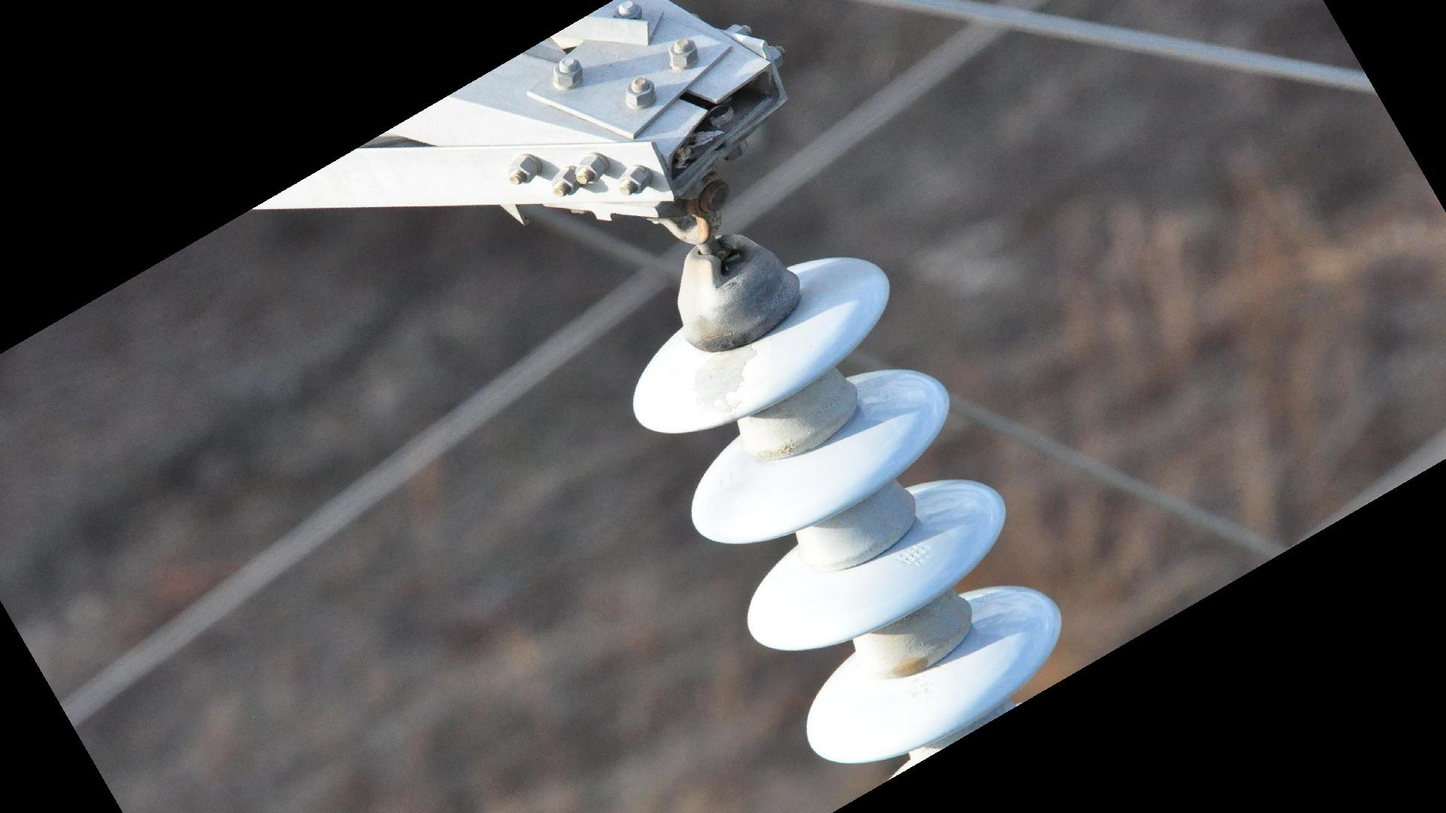insulator: (624, 250, 1069, 771)
insulator_flashover: (681, 338, 758, 419)
